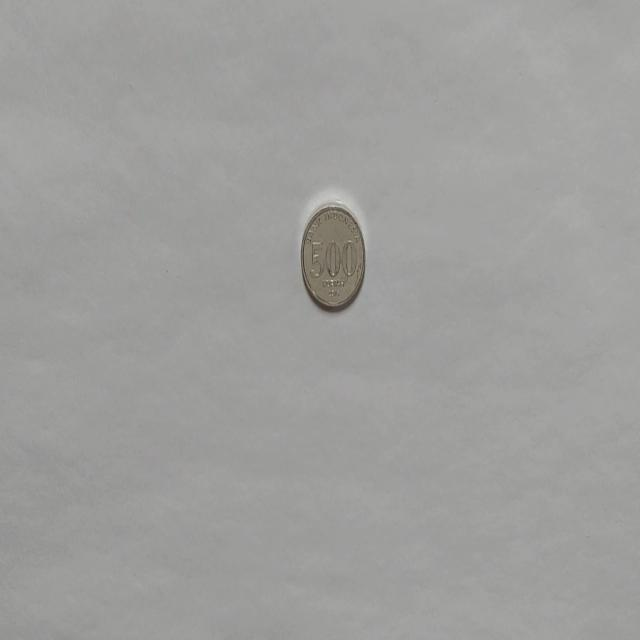lima ratus rupiah: (299, 201, 366, 311)
